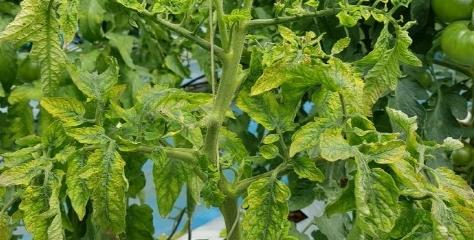Tomato leaf yellow virus: (346, 29, 415, 112), (79, 141, 134, 240), (238, 166, 295, 240), (425, 163, 474, 240), (350, 163, 398, 240), (15, 173, 69, 240), (151, 153, 193, 221), (247, 54, 295, 109), (281, 113, 340, 156), (0, 155, 57, 190), (28, 97, 91, 126), (315, 130, 358, 164), (375, 137, 409, 170)
